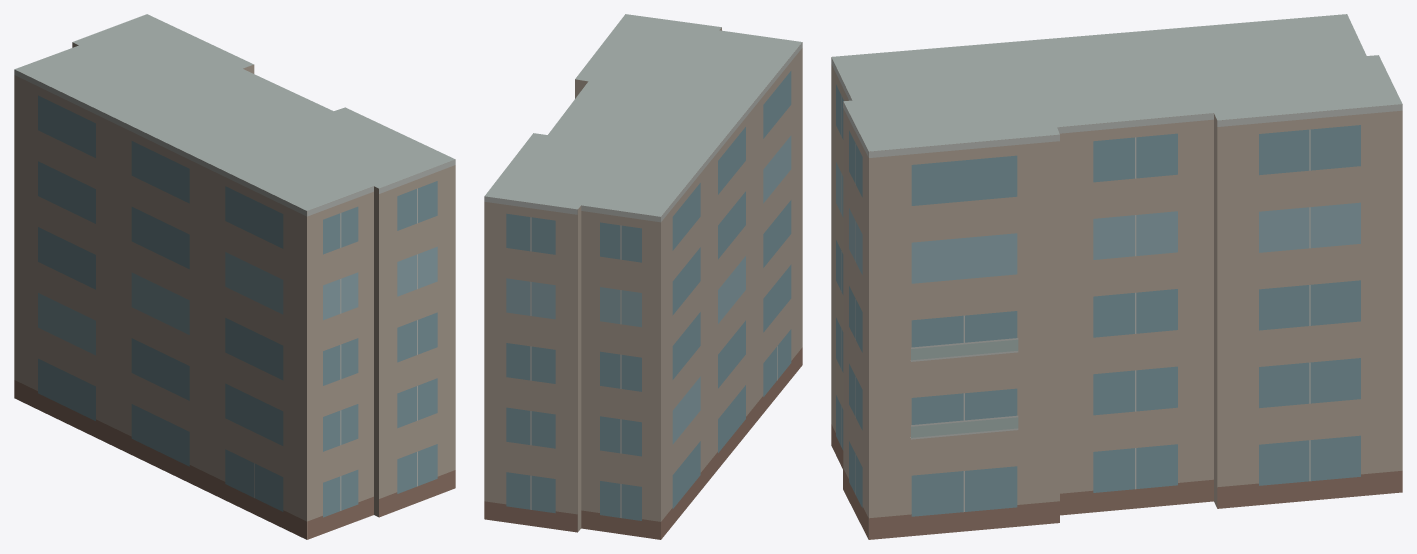
Rendered from survey-upis-32699308.glb.
The picture shows the model from 3 angles, left to right: view 1: azimuth 30°, elevation 25°; view 2: azimuth 150°, elevation 25°; view 3: azimuth 270°, elevation 25°; orthographic projection. The views are drawn at different scales.
Visible parts, largest first — view 1: survey-upis-32699308.tmp; view 2: survey-upis-32699308.tmp; view 3: survey-upis-32699308.tmp.
Part boxes in pixels (x1=…): survey-upis-32699308.tmp: x1=14, y1=14, x2=455, y2=539; survey-upis-32699308.tmp: x1=484, y1=14, x2=802, y2=539; survey-upis-32699308.tmp: x1=831, y1=14, x2=1402, y2=539.
Bounding box in the file's own units: 10.95 × 14.4 × 19.21.
